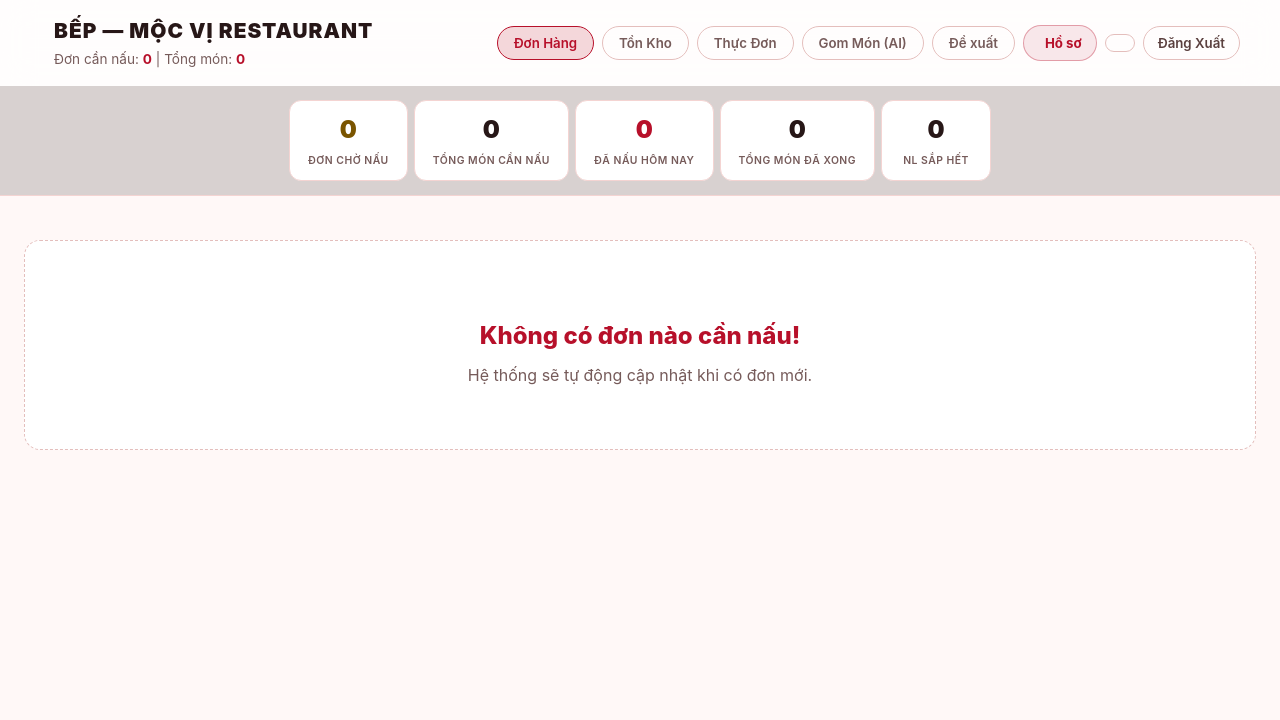
Test: Kitchen runtime resilience › keeps the page visible and shows a section error when inventory fails
Click the button "Tồn Kho".
click(646, 42)  # box left=602, top=26, right=689, bottom=60
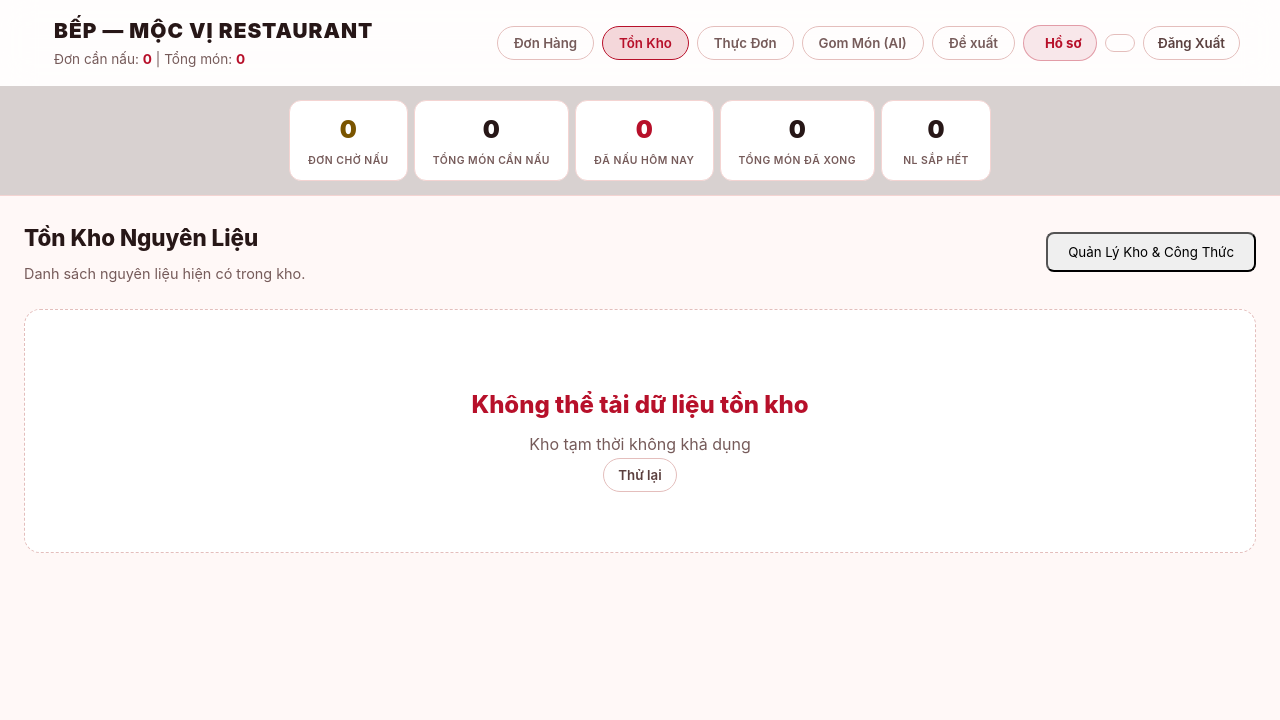
Expected: the text "BẾP — MỘC VỊ RESTAURANT" is shown, left=54, top=14, right=373, bottom=47
Expected: the text "Không thể tải dữ liệu tồn kho" is shown, left=471, top=390, right=809, bottom=419
Expected: the text "Kho tạm thời không khả dụng" is shown, left=529, top=434, right=751, bottom=454
